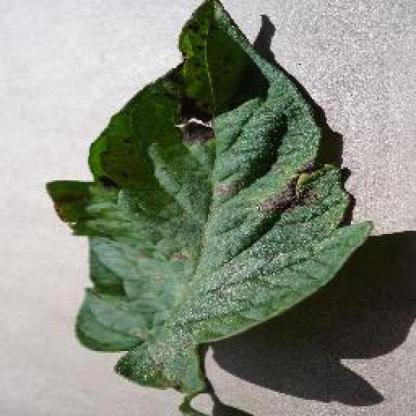Tomato_Blight: (46, 0, 374, 393)
